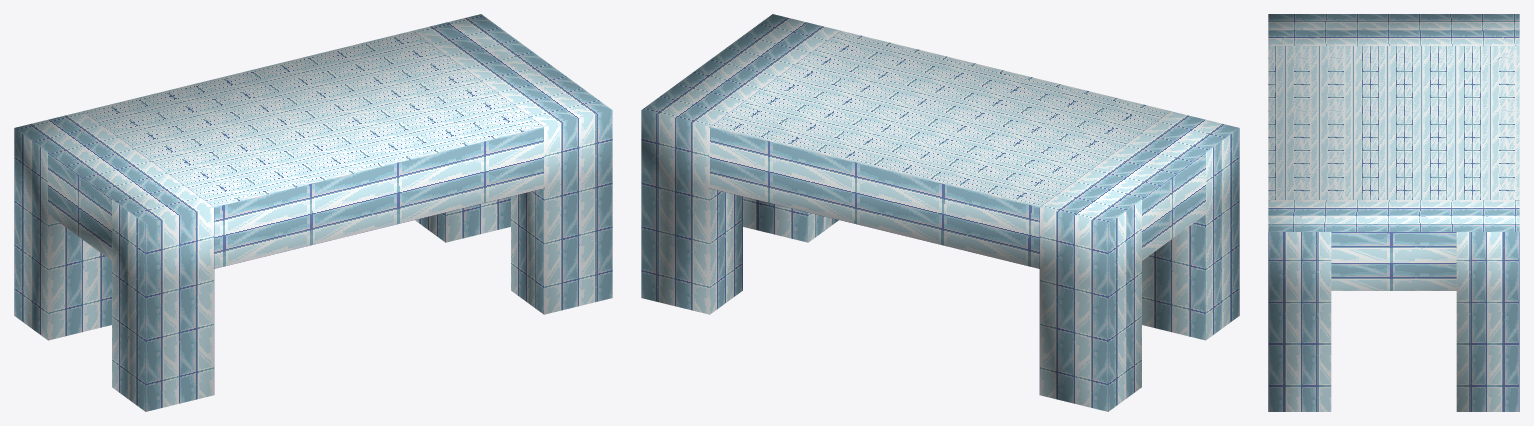
The model's file is 3153IMFY03_05.gltf.
3 renders of one model, left to right at view 1: azimuth 30°, elevation 25°; view 2: azimuth 150°, elevation 25°; view 3: azimuth 270°, elevation 25°, orthographic. The views are drawn at different scales.
Visible parts, largest first — view 1: 3153IMFY03_05; view 2: 3153IMFY03_05; view 3: 3153IMFY03_05.
Boxes of the visible parts, <box> form: 3153IMFY03_05: <box>14,14,612,411</box>; 3153IMFY03_05: <box>641,14,1239,411</box>; 3153IMFY03_05: <box>1268,14,1519,411</box>.
Bounding box in the file's own units: 1.95 × 0.75 × 0.9502.
Materials: 2 (2 with a texture image).
